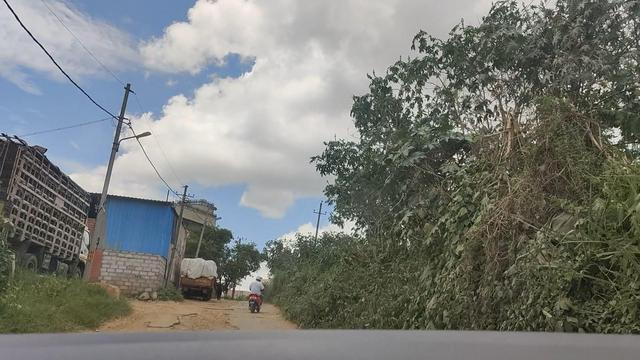HMV: (175, 251, 219, 303)
RoadDamages: (146, 302, 247, 329)
